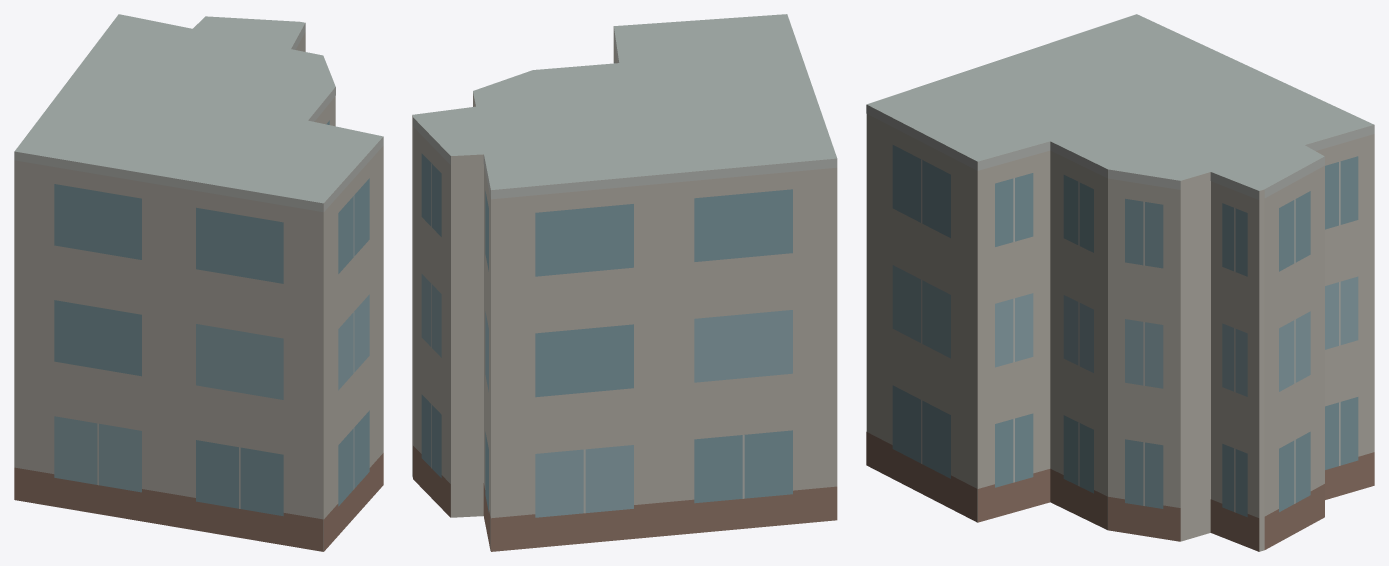
File: survey-upis-32462117.glb
3 views of the same model, side by side, from view 1: azimuth 30°, elevation 25°; view 2: azimuth 150°, elevation 25°; view 3: azimuth 270°, elevation 25° (orthographic). The views are drawn at different scales.
Parts seen in each view (by area): view 1: survey-upis-32462117.tmp; view 2: survey-upis-32462117.tmp; view 3: survey-upis-32462117.tmp.
Part boxes in pixels (x1,y1,x2,y2): survey-upis-32462117.tmp: (14, 14, 383, 551); survey-upis-32462117.tmp: (412, 14, 837, 551); survey-upis-32462117.tmp: (866, 14, 1374, 551).
Bounding box in the file's own units: 10.11 × 9.6 × 12.26.
